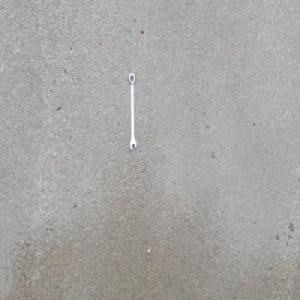Wrench: (128, 71, 137, 151)
